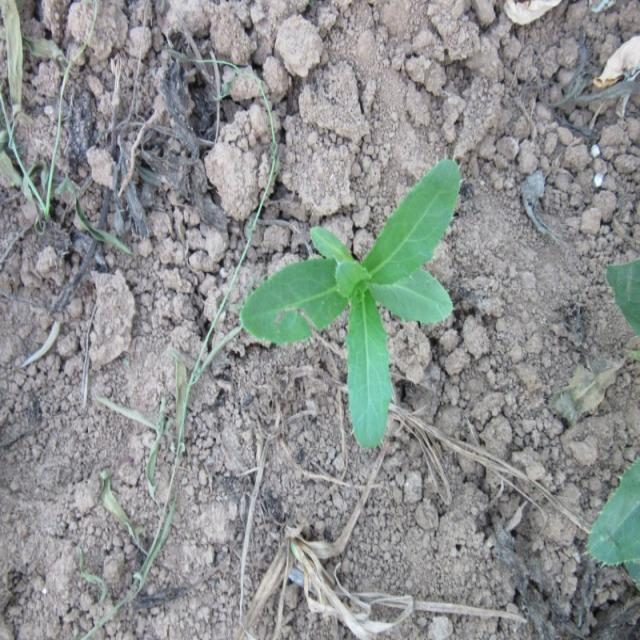cs: (238, 158, 461, 450)
